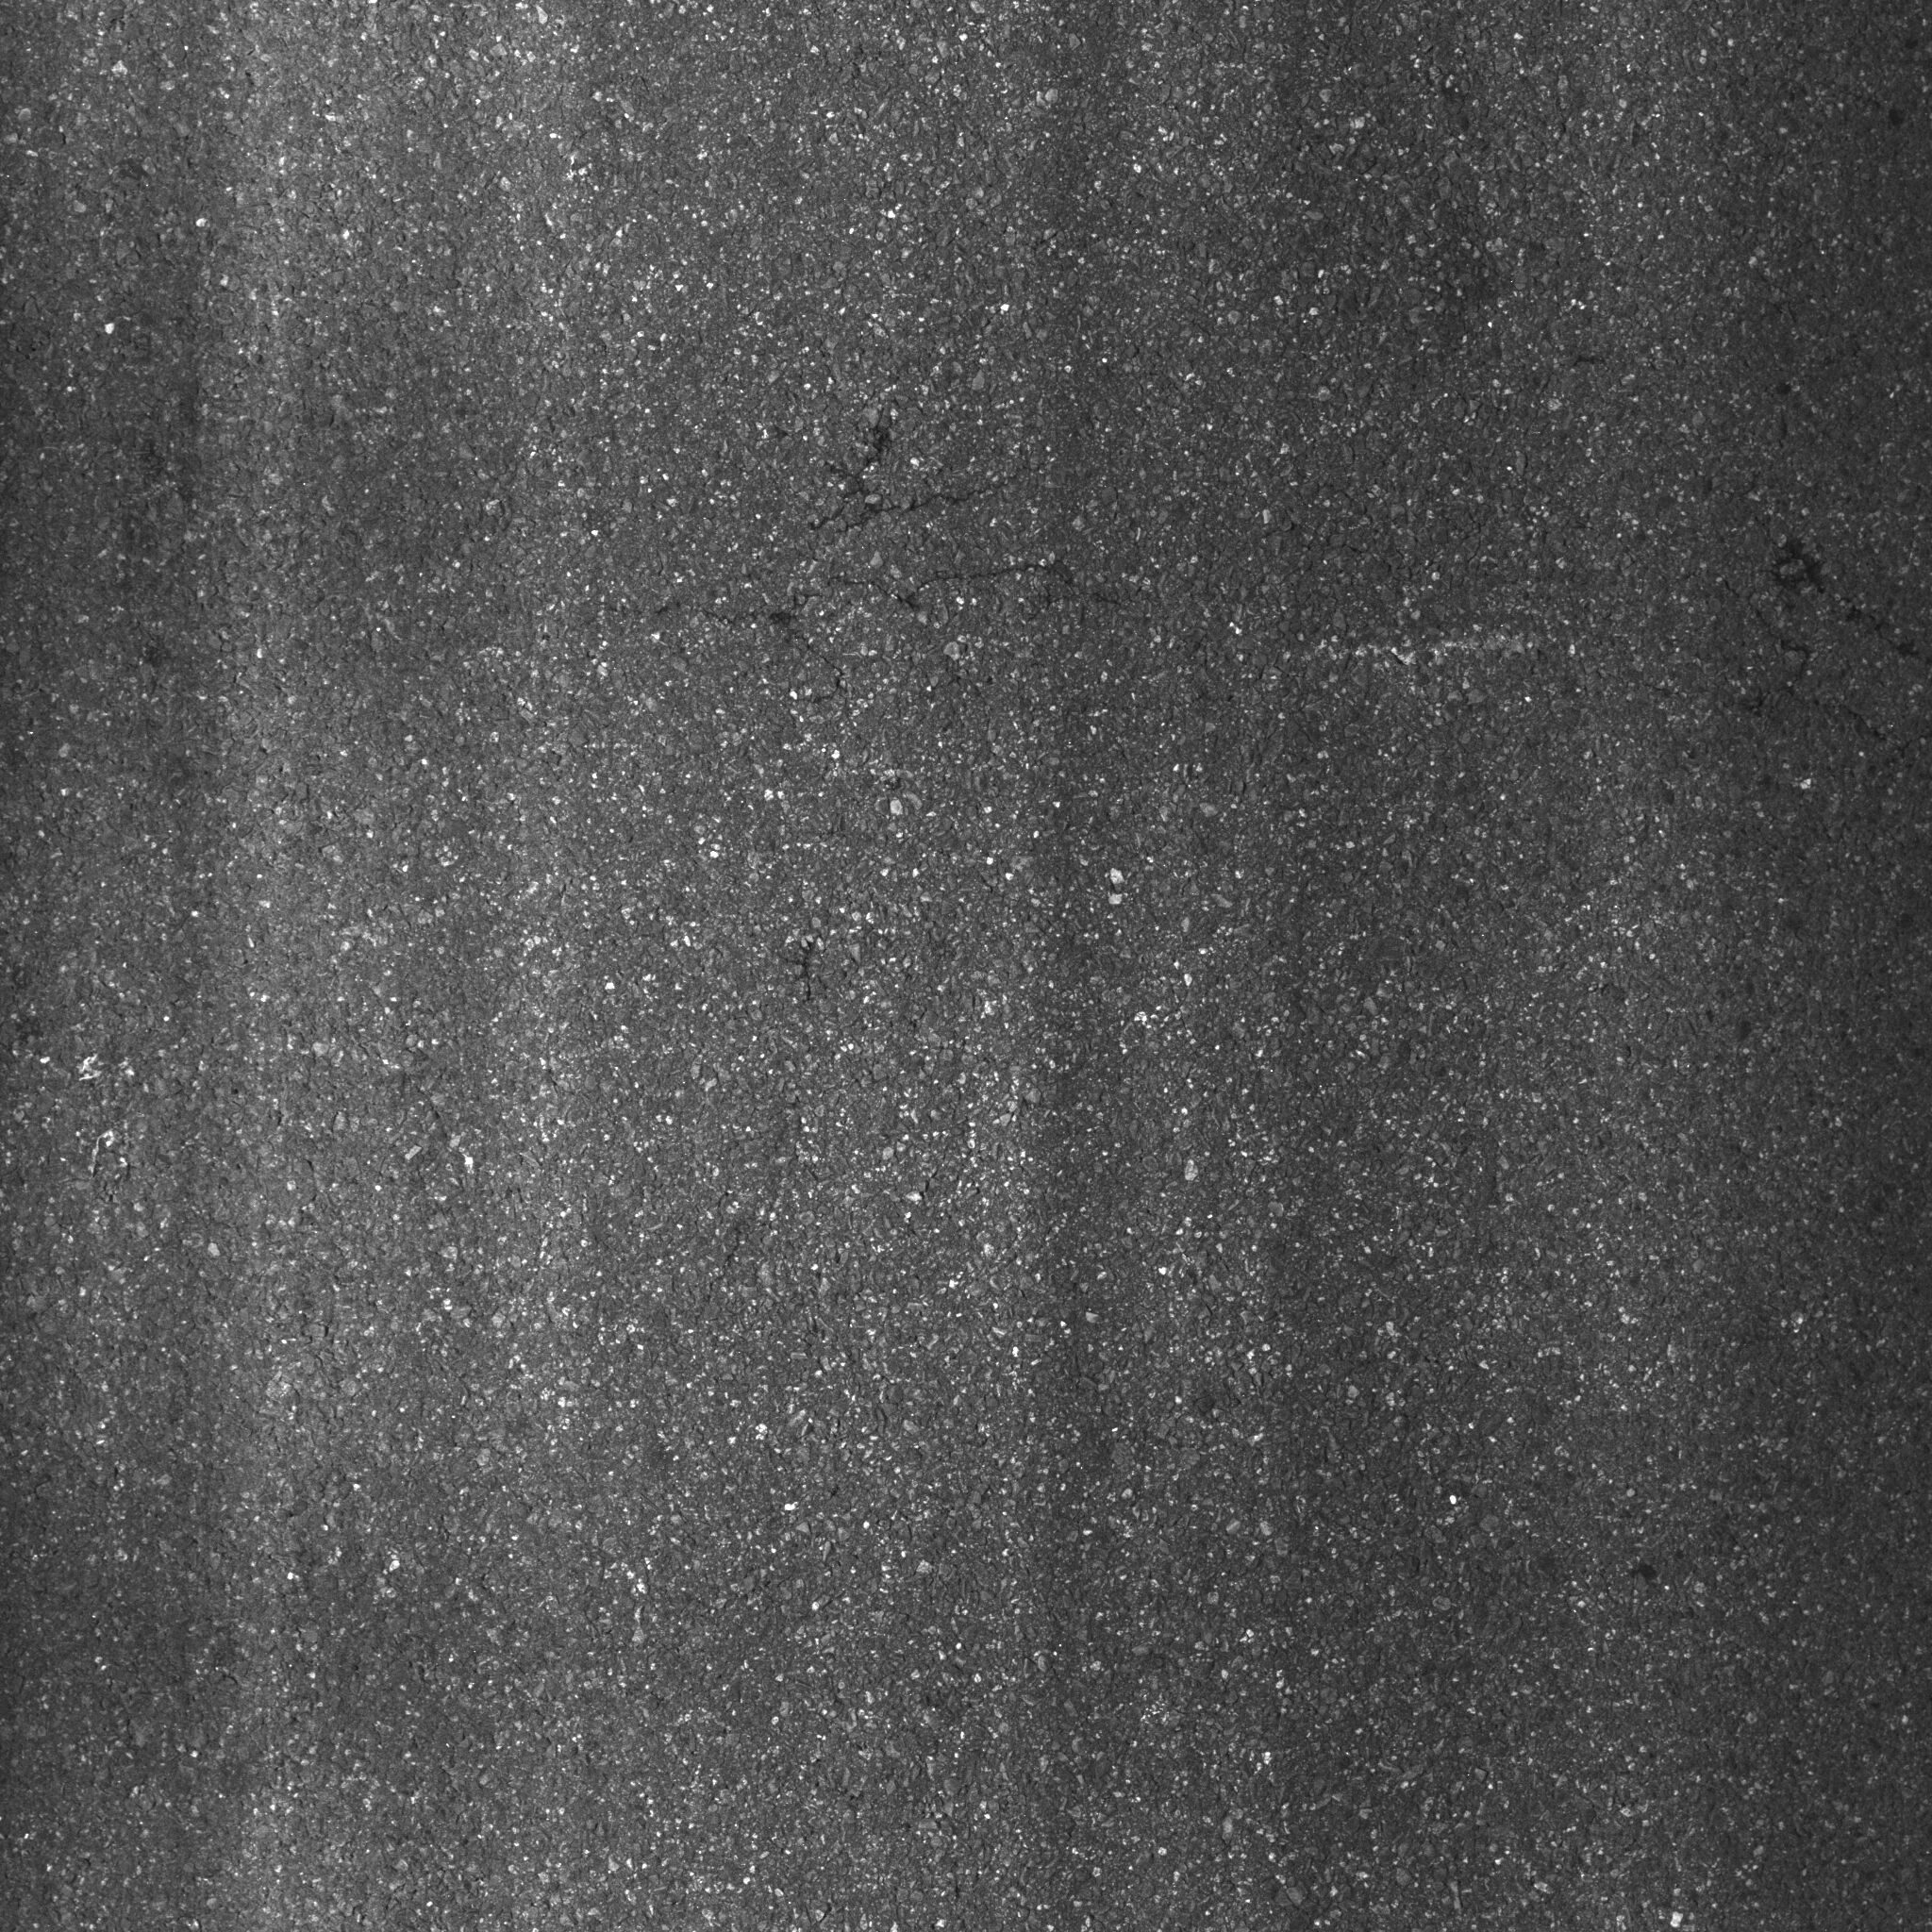transeverse: (729, 414, 1143, 704), (1732, 504, 1932, 740)
